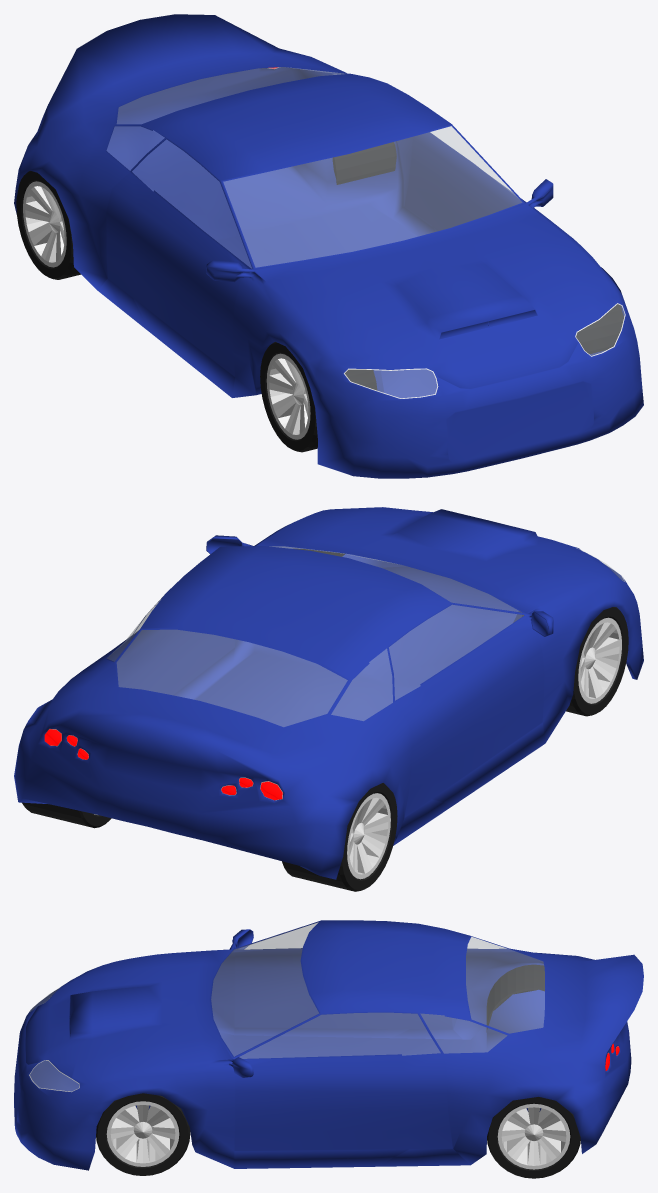
File: car.glb
3 renders of one model, top to bottom at view 1: azimuth 30°, elevation 25°; view 2: azimuth 150°, elevation 25°; view 3: azimuth 270°, elevation 25°, orthographic. The views are drawn at different scales.
Parts seen in each view (by area): view 1: Mesh, Wheel.Front.Right, Wheel.Rear.Right, Wheel.Rear.Left, Wheel.Front.Left; view 2: Mesh, Wheel.Rear.Right, Wheel.Front.Right, Wheel.Rear.Left; view 3: Mesh, Wheel.Front.Left, Wheel.Rear.Left, Wheel.Rear.Right.
Boxes of the visible parts, <box> form: Mesh: <box>14,14,643,478</box>; Wheel.Front.Right: <box>260,342,377,452</box>; Wheel.Rear.Right: <box>16,171,80,279</box>; Wheel.Rear.Left: <box>332,142,396,184</box>; Wheel.Front.Left: <box>576,304,623,354</box>; Mesh: <box>14,507,643,879</box>; Wheel.Rear.Right: <box>282,783,397,891</box>; Wheel.Front.Right: <box>522,607,628,716</box>; Wheel.Rear.Left: <box>22,802,111,828</box>; Mesh: <box>14,920,643,1170</box>; Wheel.Front.Left: <box>96,1093,190,1175</box>; Wheel.Rear.Left: <box>487,1097,580,1178</box>; Wheel.Rear.Right: <box>486,964,544,1032</box>.
Bounding box in the file's own units: 3.62 × 1.92 × 6.95.
